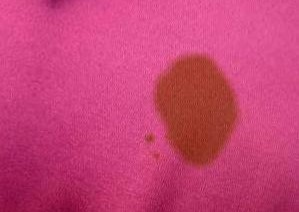stain: (153, 50, 242, 171), (139, 130, 159, 145), (151, 153, 165, 161)
